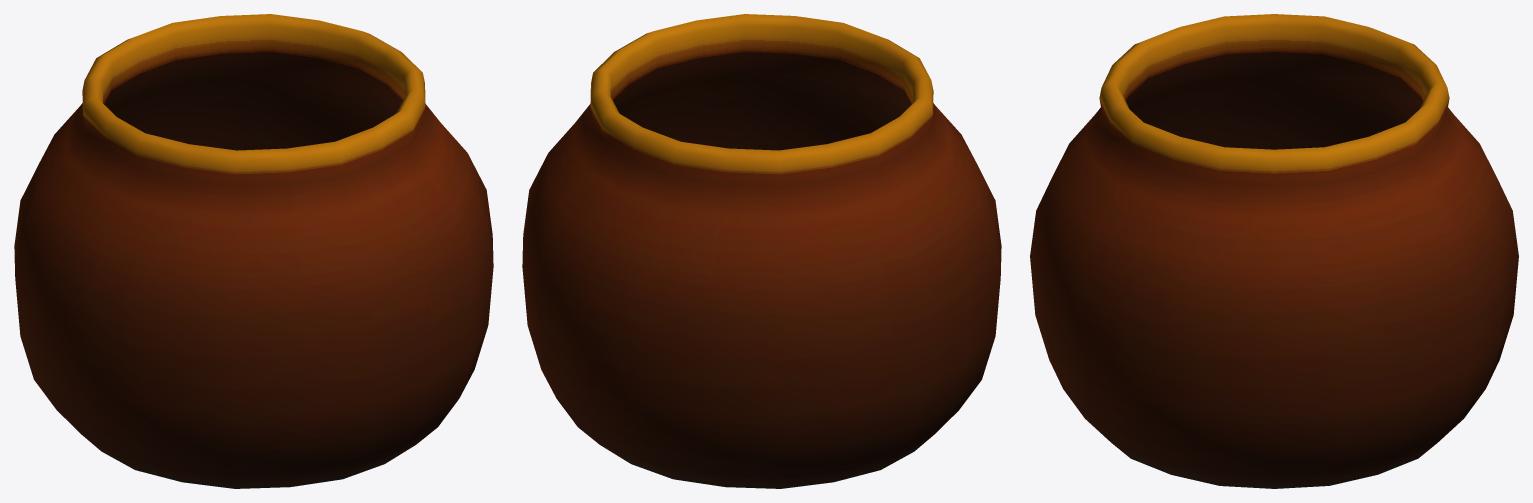
File: Pot_Large.glb
3 views of the same model, side by side, from view 1: azimuth 30°, elevation 25°; view 2: azimuth 150°, elevation 25°; view 3: azimuth 270°, elevation 25° (orthographic).
Visible parts, largest first — view 1: Pot_Large; view 2: Pot_Large; view 3: Pot_Large.
Part boxes in pixels (bbox=[...]): Pot_Large: bbox=[14, 14, 493, 488]; Pot_Large: bbox=[522, 14, 1001, 488]; Pot_Large: bbox=[1030, 14, 1518, 488].
Bounding box in the file's own units: 0.8733 × 0.6643 × 0.8851.
1 material, 1 textured.
